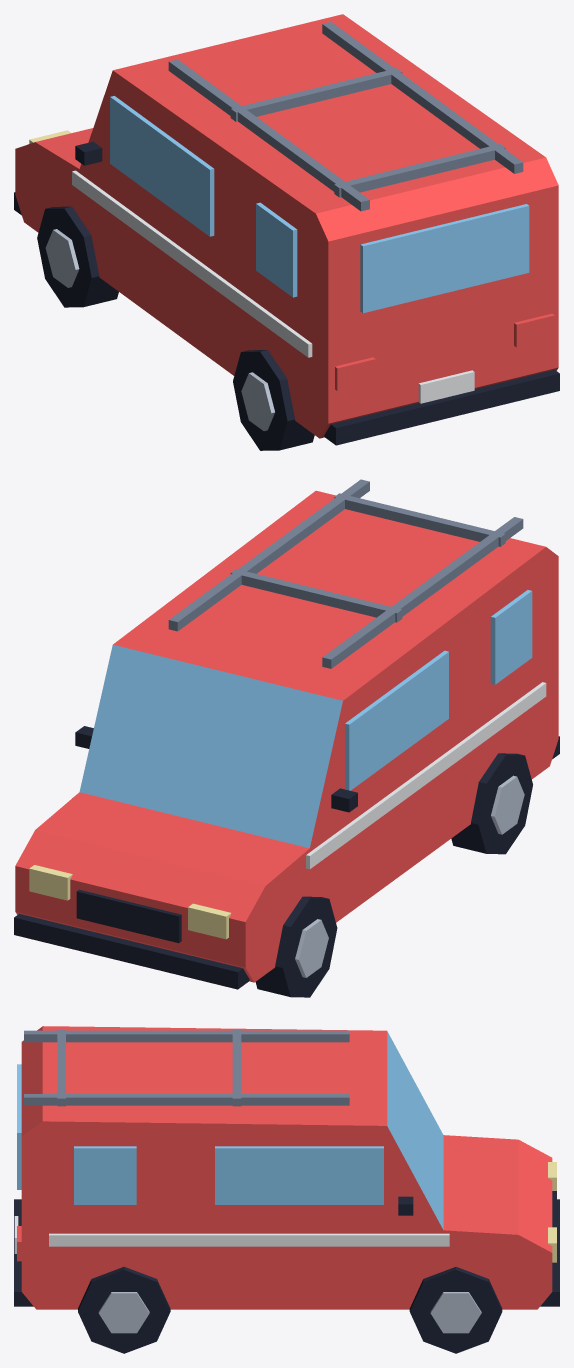
Rendered from car_van.glb.
3 renders of one model, top to bottom at view 1: azimuth 30°, elevation 25°; view 2: azimuth 150°, elevation 25°; view 3: azimuth 270°, elevation 25°, orthographic. The views are drawn at different scales.
Parts seen in each view (by area): view 1: VanBody_01, VanRearGlass_01, VanSideGlass_01, BumperB_01, VanStripe_01, Tyre_01, Tyre_03, VanRoofRack_01, VanRoofRack_02, VanSideGlass_02, VanRoofRack_04, VanRoofRack_03 (+6 smaller); view 2: VanBody_01, VanSideGlass_01, BumperF_01, VanStripe_01, Tyre_01, Tyre_03, VanRoofRack_01, VanRoofRack_02, Grille_01, VanSideGlass_02, VanRoofRack_03, VanRoofRack_04 (+4 smaller); view 3: VanBody_01, VanSideGlass_03, VanStripe_02, Tyre_04, Tyre_02, VanRoofRack_01, VanRoofRack_02, VanSideGlass_04, Hub_02, Hub_04, VanRoofRack_04, BumperB_01 (+3 smaller).
Boxes of the visible parts, box(x1,y1,x2,y2) form: VanBody_01: box(15, 14, 558, 438); VanRearGlass_01: box(360, 204, 529, 313); VanSideGlass_01: box(110, 96, 214, 236); BumperB_01: box(324, 369, 559, 445); VanStripe_01: box(72, 170, 312, 357); Tyre_01: box(37, 206, 118, 307); Tyre_03: box(233, 350, 314, 450); VanRoofRack_01: box(168, 59, 369, 211); VanRoofRack_02: box(322, 22, 523, 173); VanSideGlass_02: box(256, 202, 297, 297); VanRoofRack_04: box(230, 68, 402, 121); VanRoofRack_03: box(334, 144, 505, 197); VanBody_01: box(15, 490, 558, 982); VanSideGlass_01: box(345, 650, 448, 790); BumperF_01: box(14, 913, 249, 989); VanStripe_01: box(306, 682, 546, 869); Tyre_01: box(255, 896, 337, 997); Tyre_03: box(451, 753, 532, 854); VanRoofRack_01: box(322, 517, 523, 668); VanRoofRack_02: box(168, 479, 369, 631); Grille_01: box(76, 889, 181, 943); VanSideGlass_02: box(490, 590, 532, 684); VanRoofRack_03: box(334, 493, 505, 546); VanRoofRack_04: box(230, 569, 402, 622); VanBody_01: box(21, 1026, 552, 1309); VanSideGlass_03: box(215, 1146, 383, 1204); VanStripe_02: box(49, 1233, 449, 1246); Tyre_04: box(78, 1266, 170, 1353); Tyre_02: box(409, 1267, 502, 1353); VanRoofRack_01: box(24, 1030, 349, 1042); VanRoofRack_02: box(24, 1094, 349, 1105); VanSideGlass_04: box(74, 1146, 136, 1204); Hub_02: box(430, 1292, 481, 1333); Hub_04: box(98, 1292, 149, 1333); VanRoofRack_04: box(232, 1029, 241, 1106); BumperB_01: box(14, 1199, 33, 1306).
Bounding box in the file's own units: 2.14 × 2.11 × 4.36.
